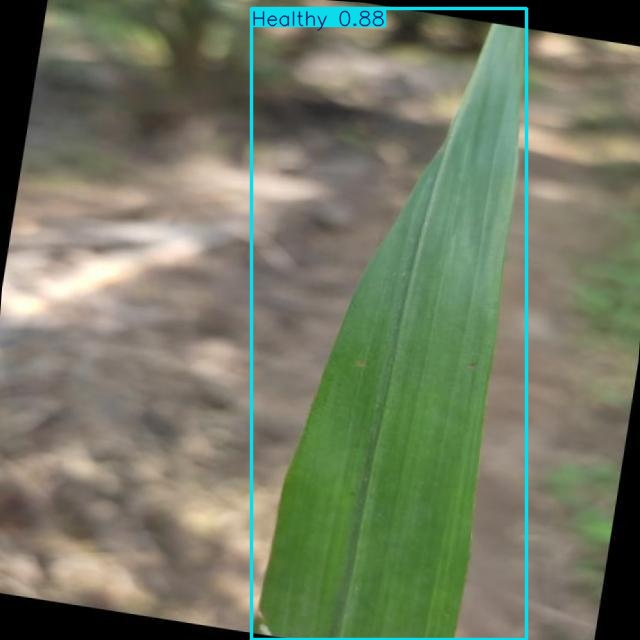Healthy: (252, 9, 527, 640)
